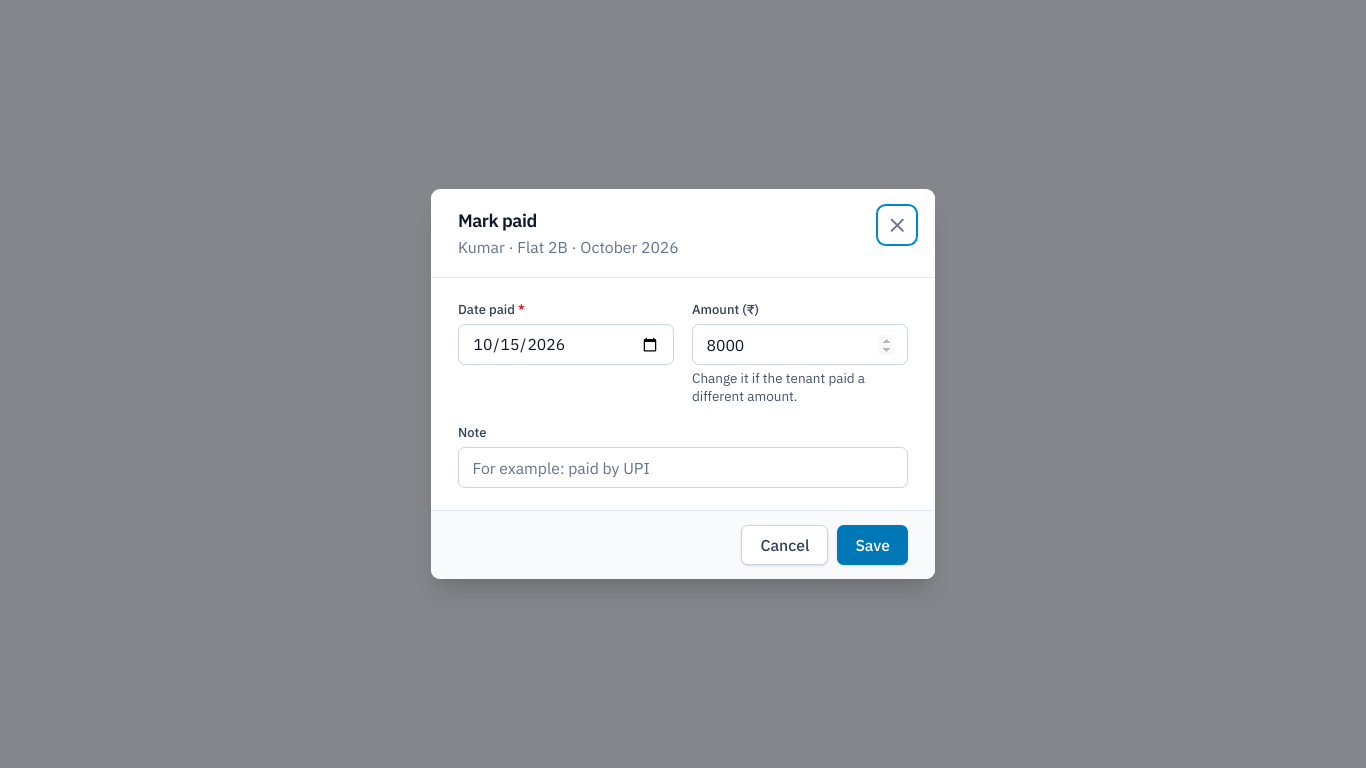
Test case: MarkPaidModal › shows the backend's refusal
What coordinates should you click on to do the following:
click the button "Save"
I would click on:
 (873, 545)
Its box is [837,525,908,565].
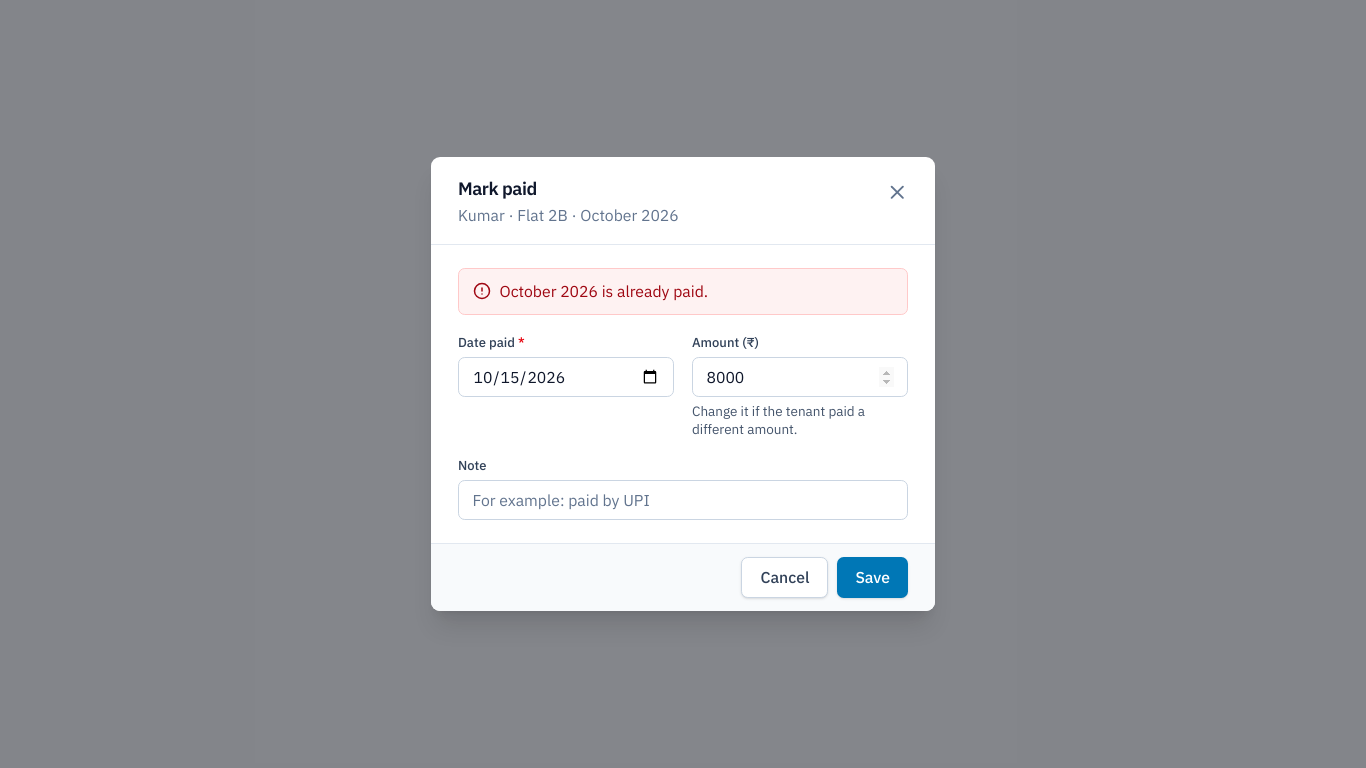
Expected: the message reads "October 2026 is already paid.", [500,281,708,301]
